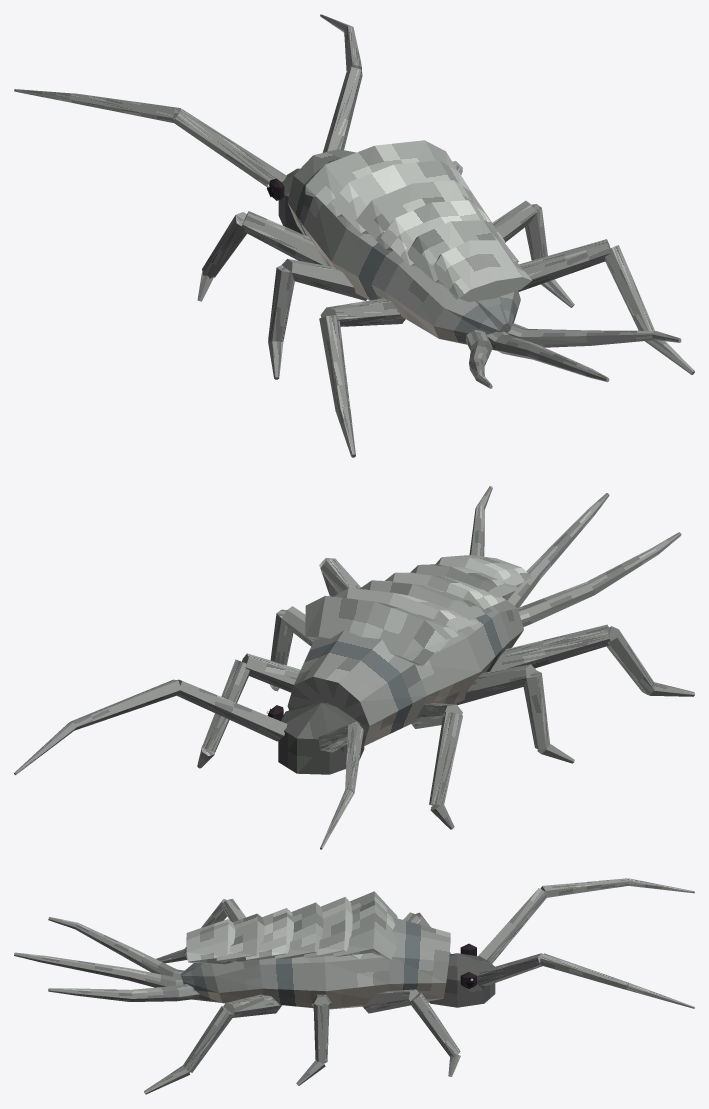
Rendered from mon_silverfish_nymph.glb.
The picture shows the model from 3 angles, top to bottom: view 1: azimuth 30°, elevation 25°; view 2: azimuth 150°, elevation 25°; view 3: azimuth 270°, elevation 25°; orthographic projection. The views are drawn at different scales.
Visible parts, largest first — view 1: closed_body; view 2: closed_body; view 3: closed_body.
Boxes of the visible parts, x1=… form: closed_body: x1=14, y1=14, x2=694, y2=457; closed_body: x1=14, y1=486, x2=694, y2=849; closed_body: x1=14, y1=878, x2=694, y2=1094.
Size of the model in its own units: 0.2885 by 0.1298 by 0.6393.
1 material, 1 textured.
